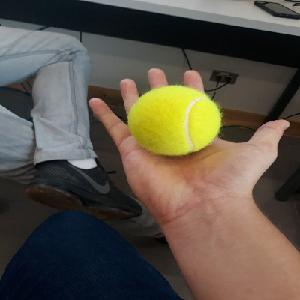Ball: (128, 84, 222, 156)
